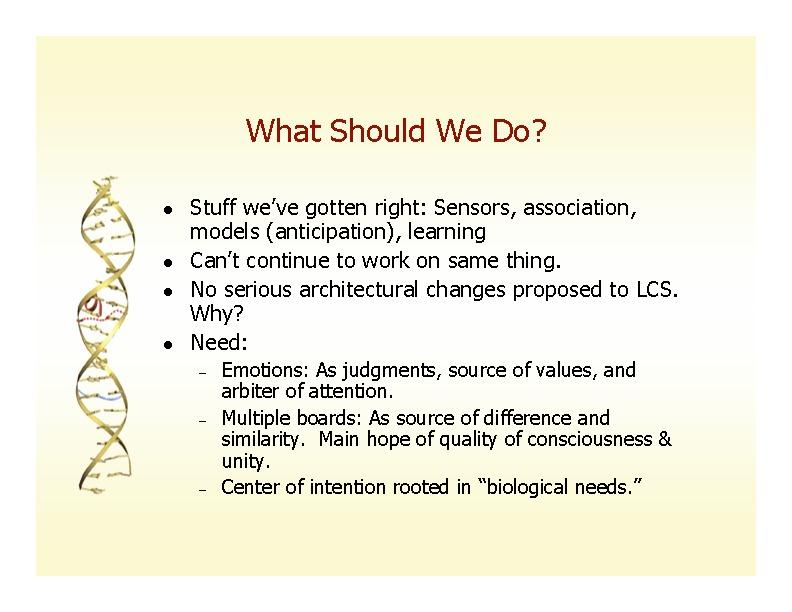paragraph: (150, 191, 722, 509)
title: (233, 108, 555, 162)
